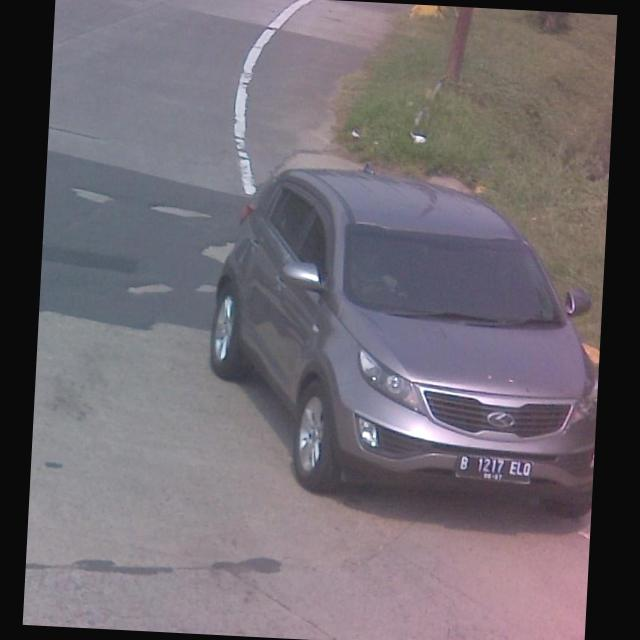plate: (452, 450, 535, 487)
